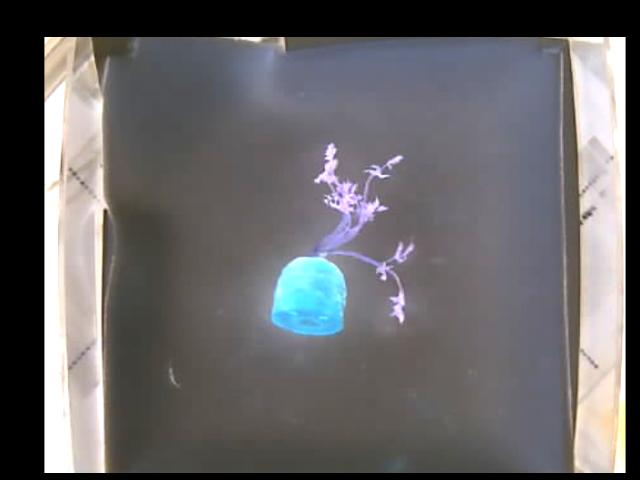Carrot: (272, 144, 411, 334)
